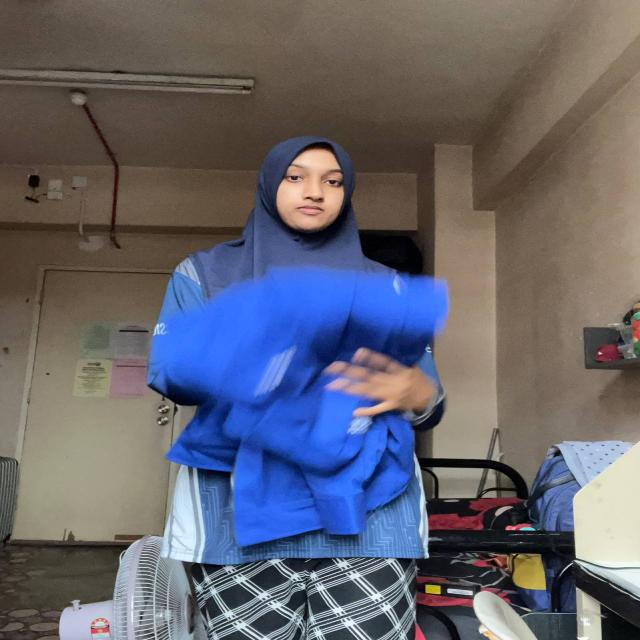person_without_labcoat: (147, 136, 446, 640)
